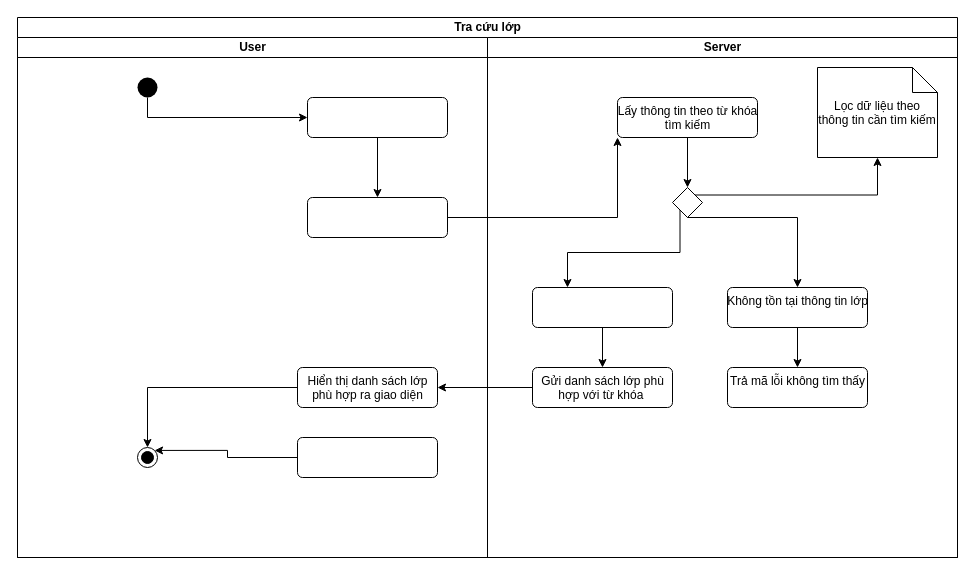
Image size: 975x575. Some labels were removed from this diagram. The shapes that lost their labels are listed below. From the top down, each one's centre as x and y in pixels, then its label:
[377,117]: Nhập thông tin lớp cần tìm kiếm
[377,217]: Yêu cầu tìm kiếm
[602,307]: Tồn tại thông tin lớp
[367,457]: Hiển thị lỗi"không tìm thấy lớp theo yêu cầu".
